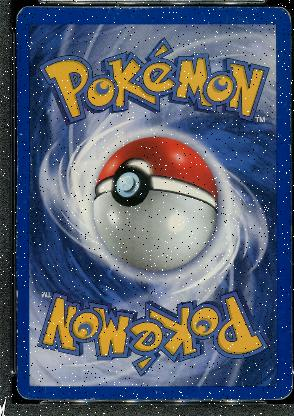Card: (14, 5, 292, 402)
Corner Wear: (270, 5, 290, 23), (14, 380, 31, 400), (268, 387, 291, 401), (12, 5, 25, 25), (42, 397, 107, 399)
Edge Wear: (28, 6, 183, 8), (191, 6, 266, 10), (287, 144, 290, 204), (15, 136, 18, 176), (288, 284, 290, 334), (190, 398, 239, 400), (288, 224, 290, 270), (16, 228, 18, 260), (287, 102, 289, 134), (16, 32, 18, 62), (16, 288, 18, 314), (16, 200, 18, 223), (16, 318, 18, 334), (16, 67, 17, 85), (16, 362, 17, 376), (16, 268, 17, 280)
Scratch: (241, 78, 273, 126), (77, 324, 94, 390), (21, 186, 42, 212), (200, 12, 218, 32), (152, 389, 178, 399), (122, 388, 137, 398), (278, 100, 287, 112), (266, 357, 282, 361), (274, 131, 282, 139), (240, 379, 243, 387), (109, 392, 113, 398), (198, 370, 200, 380), (19, 131, 23, 135), (16, 345, 21, 347), (285, 292, 287, 296)
